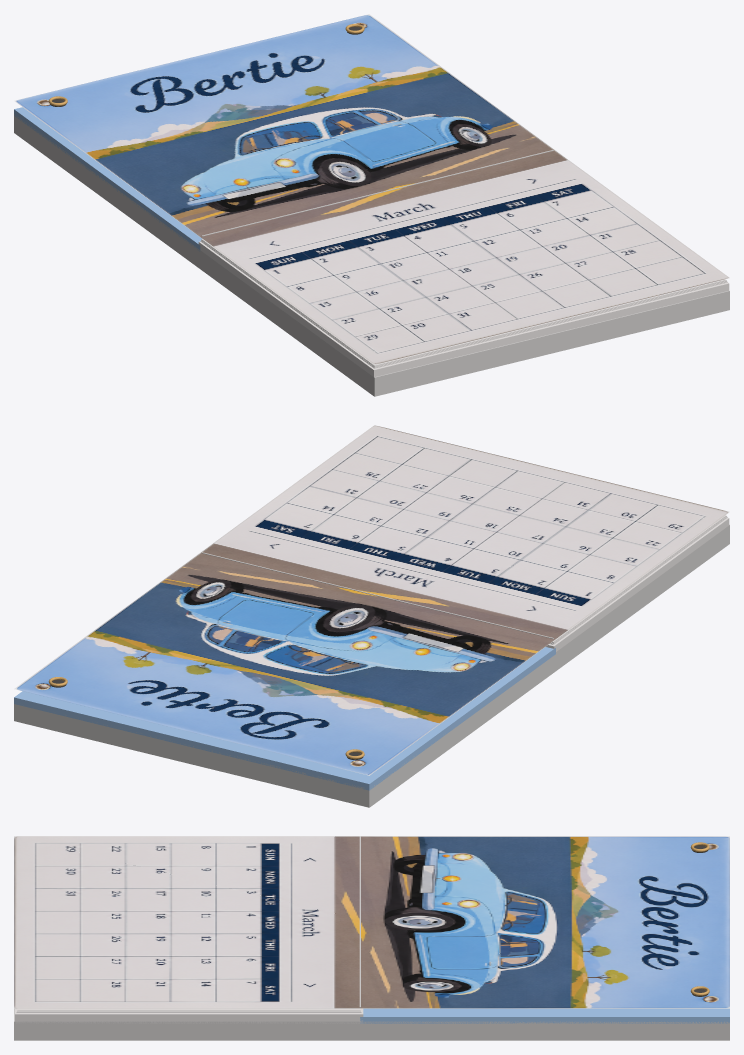
File: calendar.glb
The picture shows the model from 3 angles, top to bottom: view 1: azimuth 30°, elevation 25°; view 2: azimuth 150°, elevation 25°; view 3: azimuth 270°, elevation 25°; orthographic projection.
Parts seen in each view (by area): view 1: Bertie Artwork and March Grid, Full Calendar Backboard, White March Calendar Pad, Blue Illustrated Upper Panel, Individual Paper Sheet 03, Individual Paper Sheet 00, Individual Paper Sheet 01, Individual Paper Sheet 02, Panel Separation; view 2: Bertie Artwork and March Grid, Full Calendar Backboard, Blue Illustrated Upper Panel, White March Calendar Pad, Panel Separation; view 3: Bertie Artwork and March Grid, Full Calendar Backboard, Blue Illustrated Upper Panel, White March Calendar Pad, Individual Paper Sheet 03, Individual Paper Sheet 01, Individual Paper Sheet 00, Individual Paper Sheet 02.
Boxes of the visible parts, x1=… form: Bertie Artwork and March Grid: x1=14, y1=14, x2=729, y2=364; Full Calendar Backboard: x1=14, y1=114, x2=729, y2=396; White March Calendar Pad: x1=198, y1=241, x2=729, y2=377; Blue Illustrated Upper Panel: x1=14, y1=107, x2=201, y2=251; Individual Paper Sheet 03: x1=201, y1=239, x2=726, y2=366; Individual Paper Sheet 00: x1=200, y1=241, x2=727, y2=368; Individual Paper Sheet 01: x1=201, y1=240, x2=727, y2=367; Individual Paper Sheet 02: x1=201, y1=240, x2=726, y2=366; Panel Separation: x1=202, y1=150, x2=553, y2=236; Bertie Artwork and March Grid: x1=14, y1=425, x2=729, y2=775; Full Calendar Backboard: x1=14, y1=524, x2=729, y2=807; Blue Illustrated Upper Panel: x1=14, y1=647, x2=555, y2=790; White March Calendar Pad: x1=546, y1=517, x2=729, y2=651; Panel Separation: x1=202, y1=552, x2=553, y2=638; Bertie Artwork and March Grid: x1=14, y1=836, x2=729, y2=1008; Full Calendar Backboard: x1=14, y1=1008, x2=729, y2=1040; Blue Illustrated Upper Panel: x1=360, y1=1008, x2=729, y2=1023; White March Calendar Pad: x1=15, y1=1008, x2=363, y2=1023; Individual Paper Sheet 03: x1=17, y1=1008, x2=360, y2=1010; Individual Paper Sheet 01: x1=16, y1=1009, x2=361, y2=1012; Individual Paper Sheet 00: x1=16, y1=1009, x2=361, y2=1012; Individual Paper Sheet 02: x1=17, y1=1009, x2=360, y2=1011.
Bounding box in the file's own units: 3.7 × 0.367 × 6.5.
6 materials, 1 textured.
